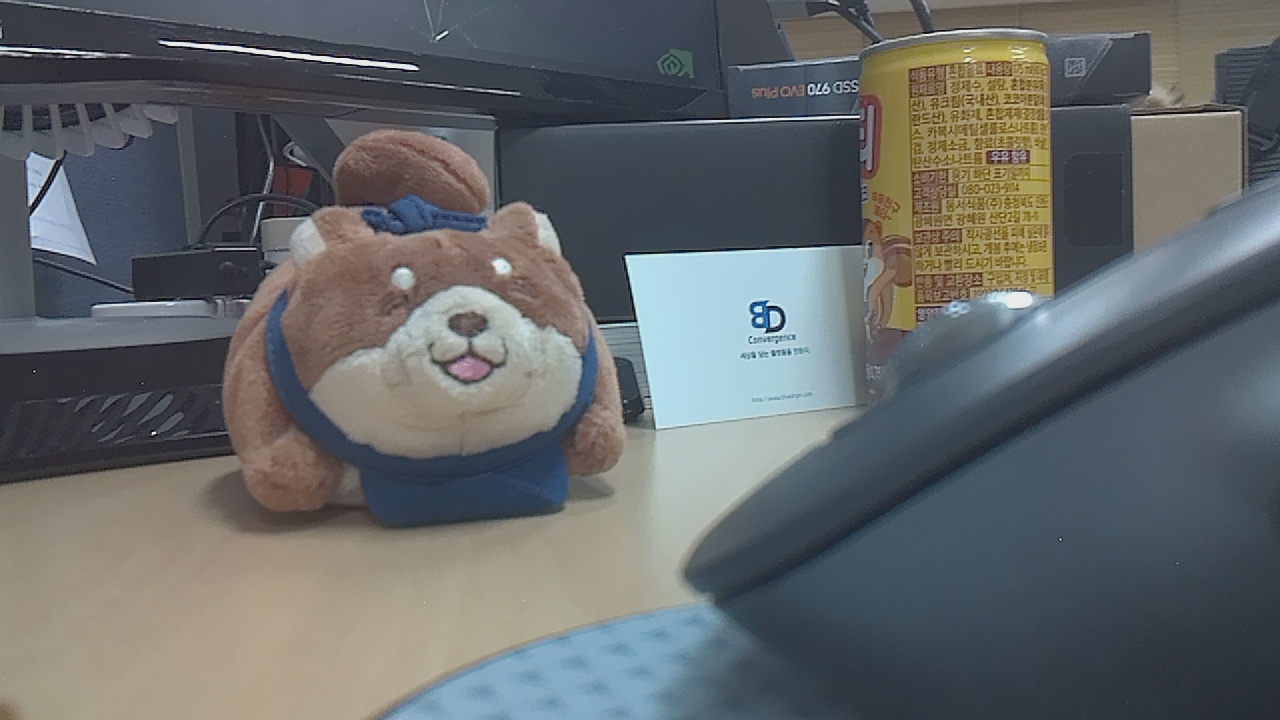cuteDog: (205, 175, 644, 532)
